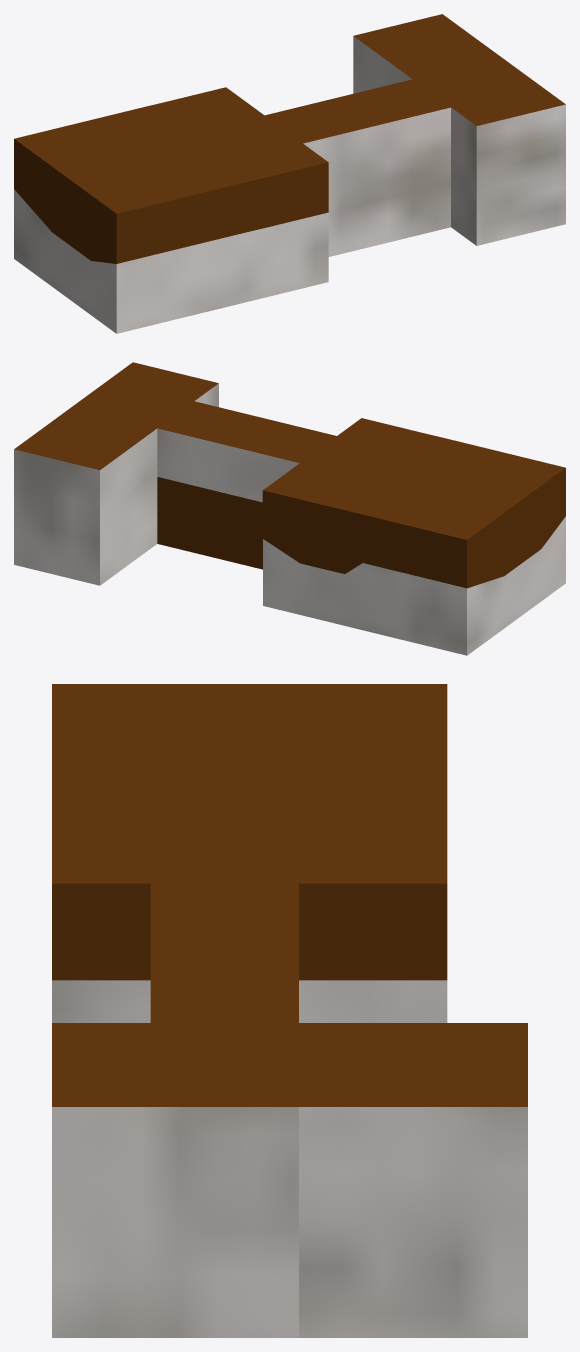
Rendered from ViA_Building.fbx.
The picture shows the model from 3 angles, top to bottom: view 1: azimuth 30°, elevation 25°; view 2: azimuth 150°, elevation 25°; view 3: azimuth 270°, elevation 25°; orthographic projection. The views are drawn at different scales.
Visible parts, largest first — view 1: Ground; view 2: Ground; view 3: Ground.
Boxes of the visible parts, box(x1,y1,x2,y2) form: Ground: box(14, 14, 565, 333); Ground: box(14, 362, 565, 655); Ground: box(52, 684, 527, 1337).
Bounding box in the file's own units: 11182 × 2855 × 5321.
